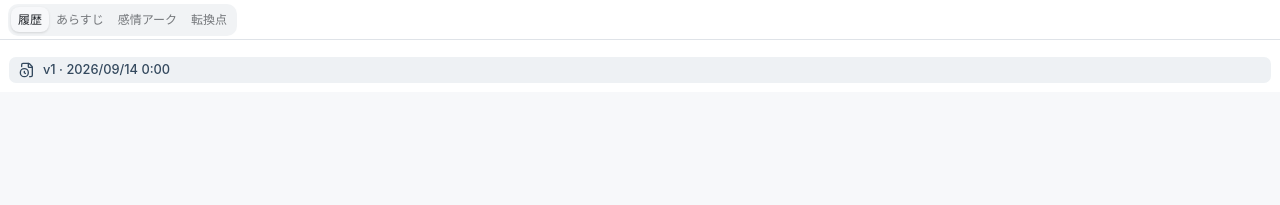
Test: AnalysisTabsPanel › 転換点タブで identified と not_applicable のカードを表示する
Click the tab "転換点" at point(209, 20), box [184,7,234,32]
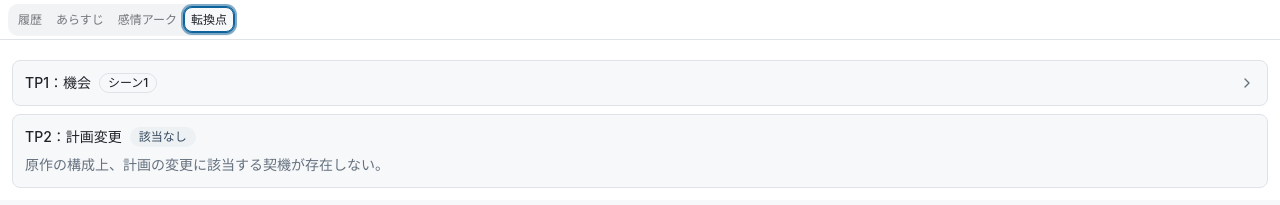
Check: the button with aria-label "TP1を開く" is shown, box [13,61,1267,105]
Check: the text "該当なし" is shown, box [130,127,196,147]
Check: the text "原作の構成上、計画の変更に該当する契機が存在しない。" is shown, box [25,156,389,173]
